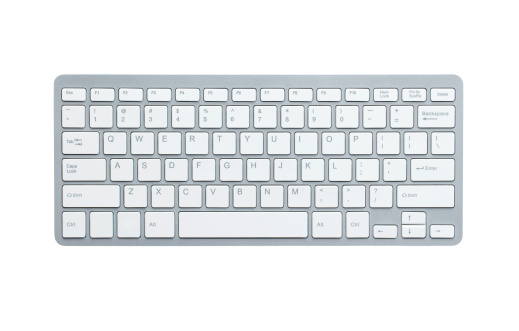keyboard: (46, 69, 470, 254)
